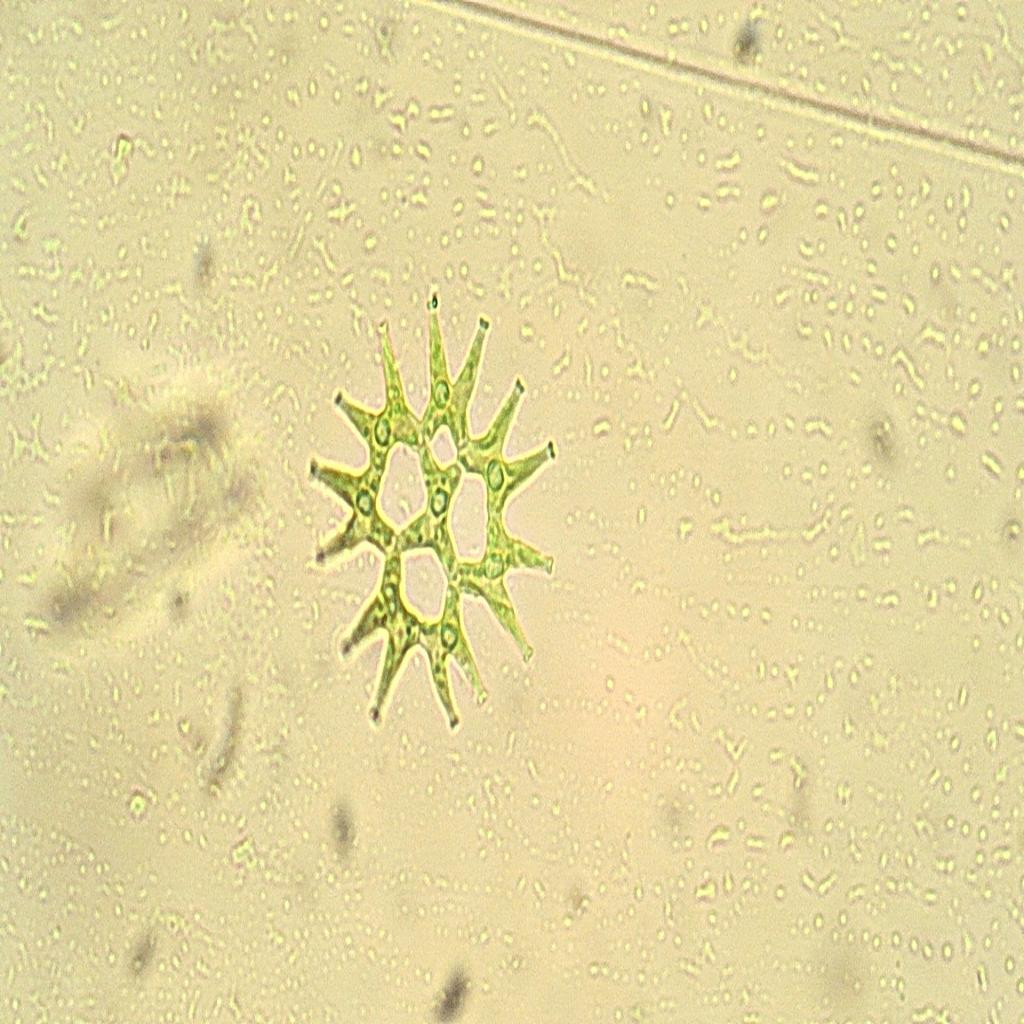Pediastrum_CTH: (304, 279, 570, 754)
